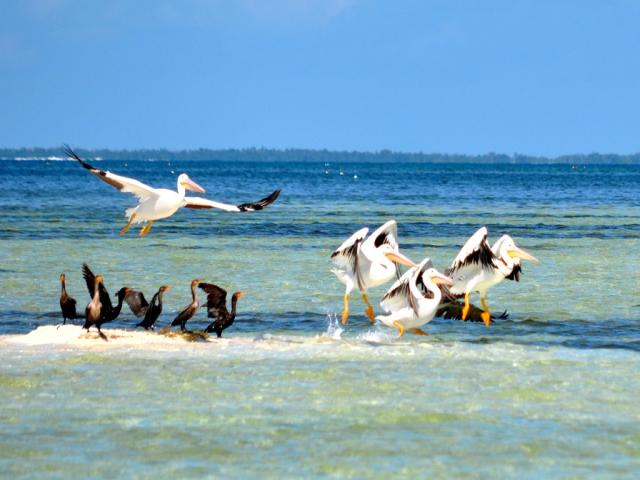Bird: (58, 139, 283, 237), (375, 258, 510, 340), (444, 226, 537, 328), (330, 222, 418, 326), (59, 261, 168, 343), (199, 282, 244, 340), (170, 275, 200, 334)
